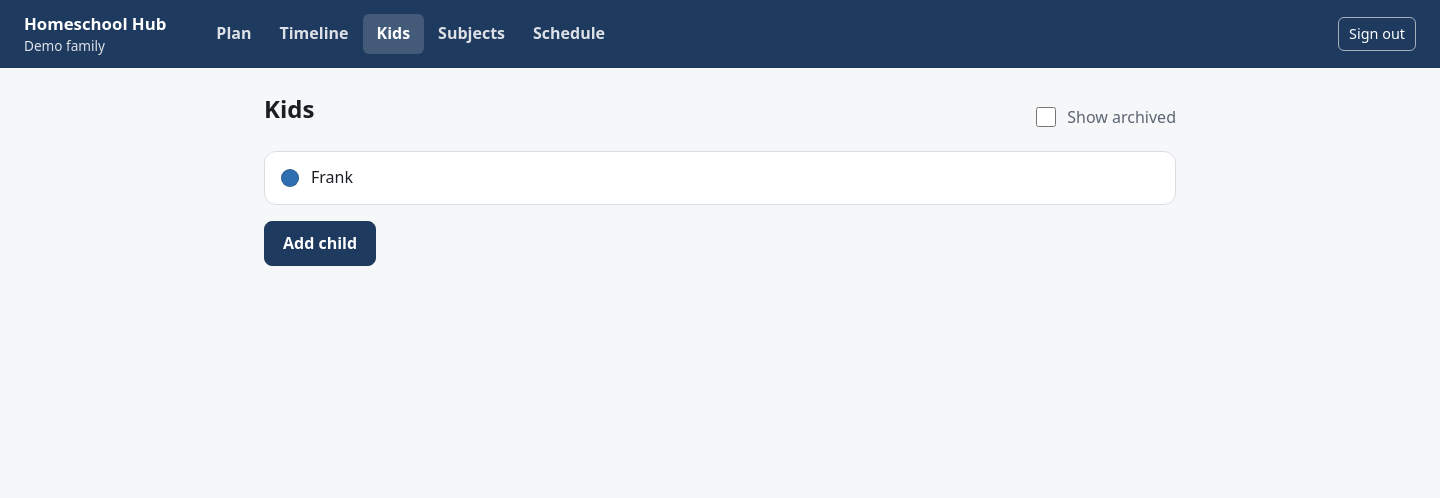
Scenario: Add child › Escape closes the form without saving
Click the button "Add child" at (320, 243), box [264,221,376,266]
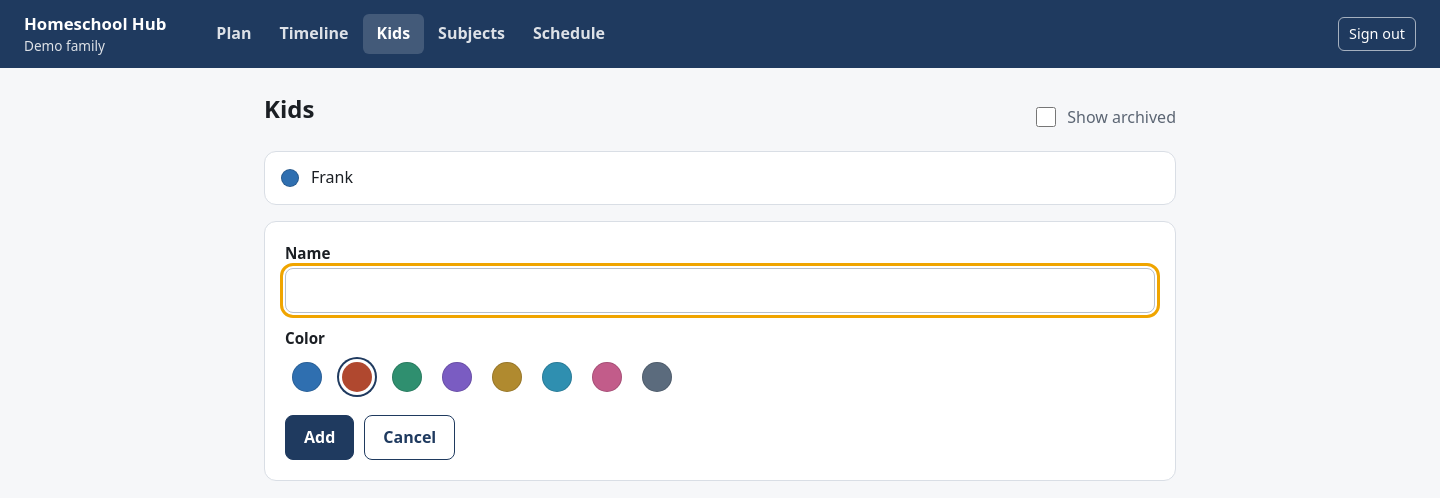
Type "Ada" into the field labelled "Name" at (720, 290), box [285,268,1155,313]
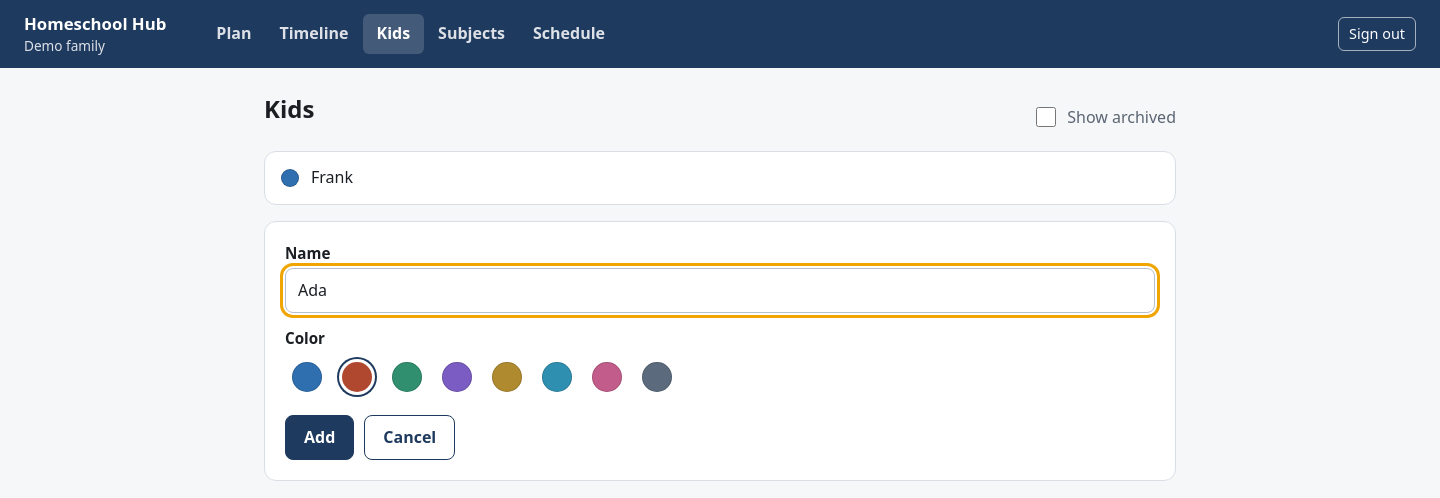
Press Escape
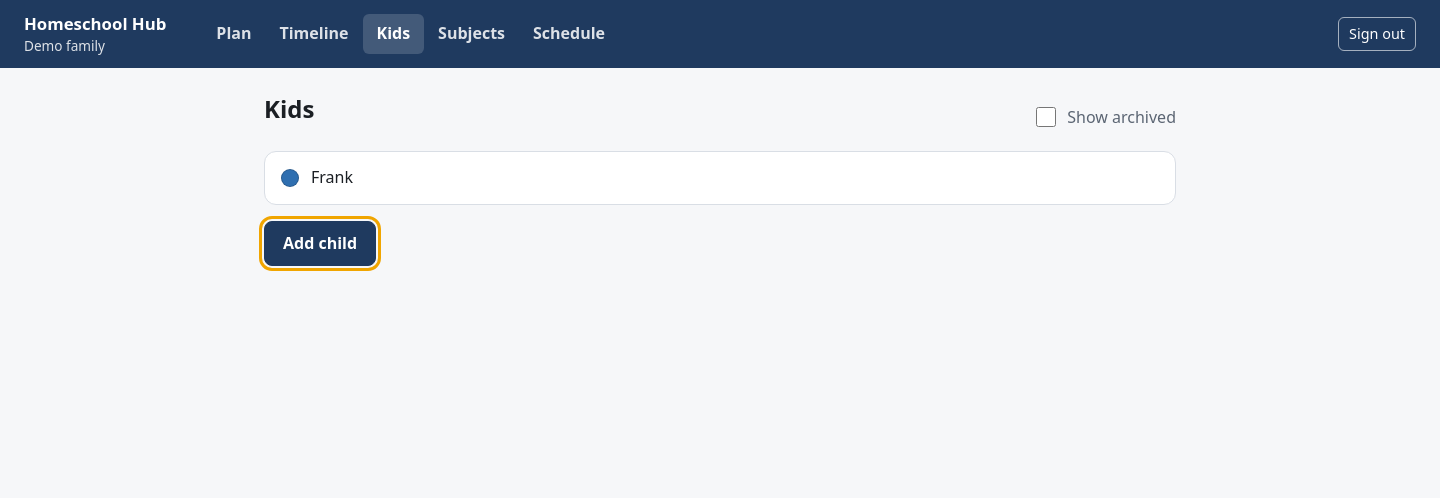
Expected: the button "Add child" is shown, [264,221,376,266]
